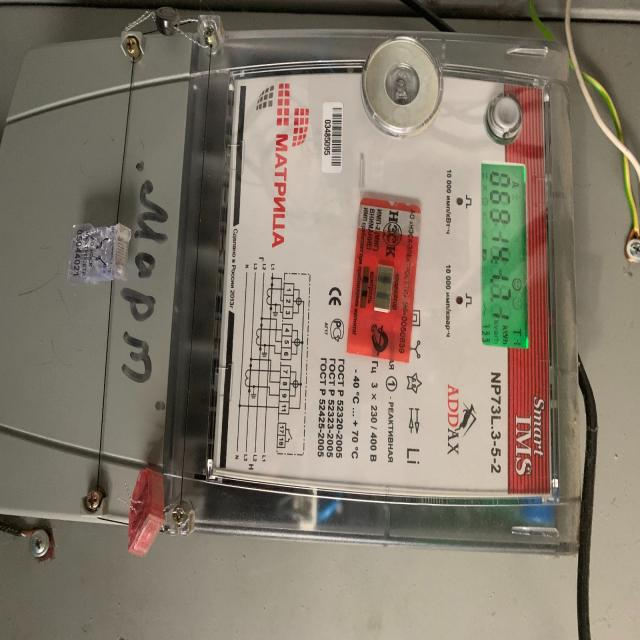Display: (482, 161, 528, 350)
meter_matrica: (13, 41, 585, 556)
meter_number: (322, 101, 342, 169)
seal_elso: (69, 221, 132, 284)
seal_imp: (345, 197, 422, 364)
